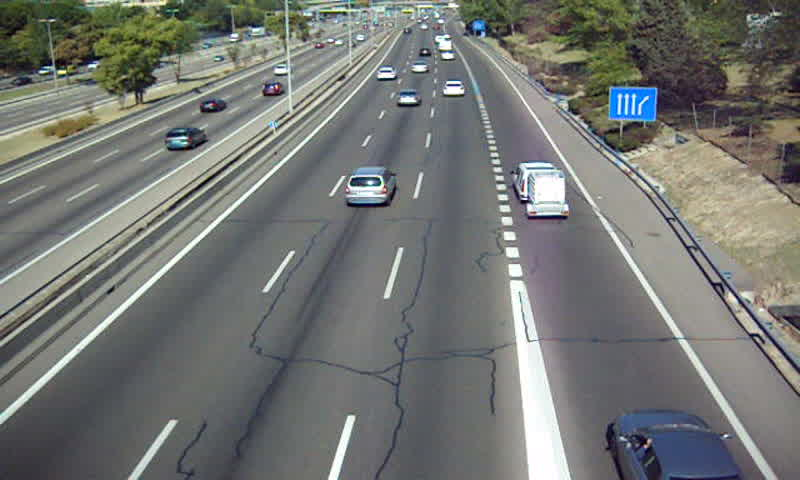car: (610, 411, 741, 480), (345, 167, 395, 205), (395, 88, 422, 107), (443, 81, 465, 98), (376, 66, 396, 81), (410, 60, 429, 75), (441, 50, 456, 61)
van: (511, 162, 561, 201)
